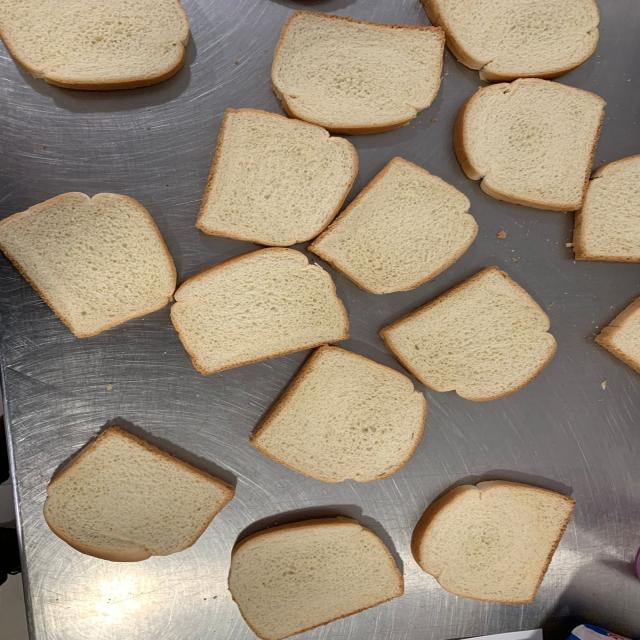pan: (44, 426, 235, 562), (0, 191, 178, 336), (250, 343, 427, 483), (380, 266, 558, 402), (308, 157, 479, 295), (170, 247, 350, 375), (196, 108, 361, 246), (269, 10, 445, 136), (230, 518, 404, 640), (411, 479, 577, 606), (453, 78, 607, 212)
